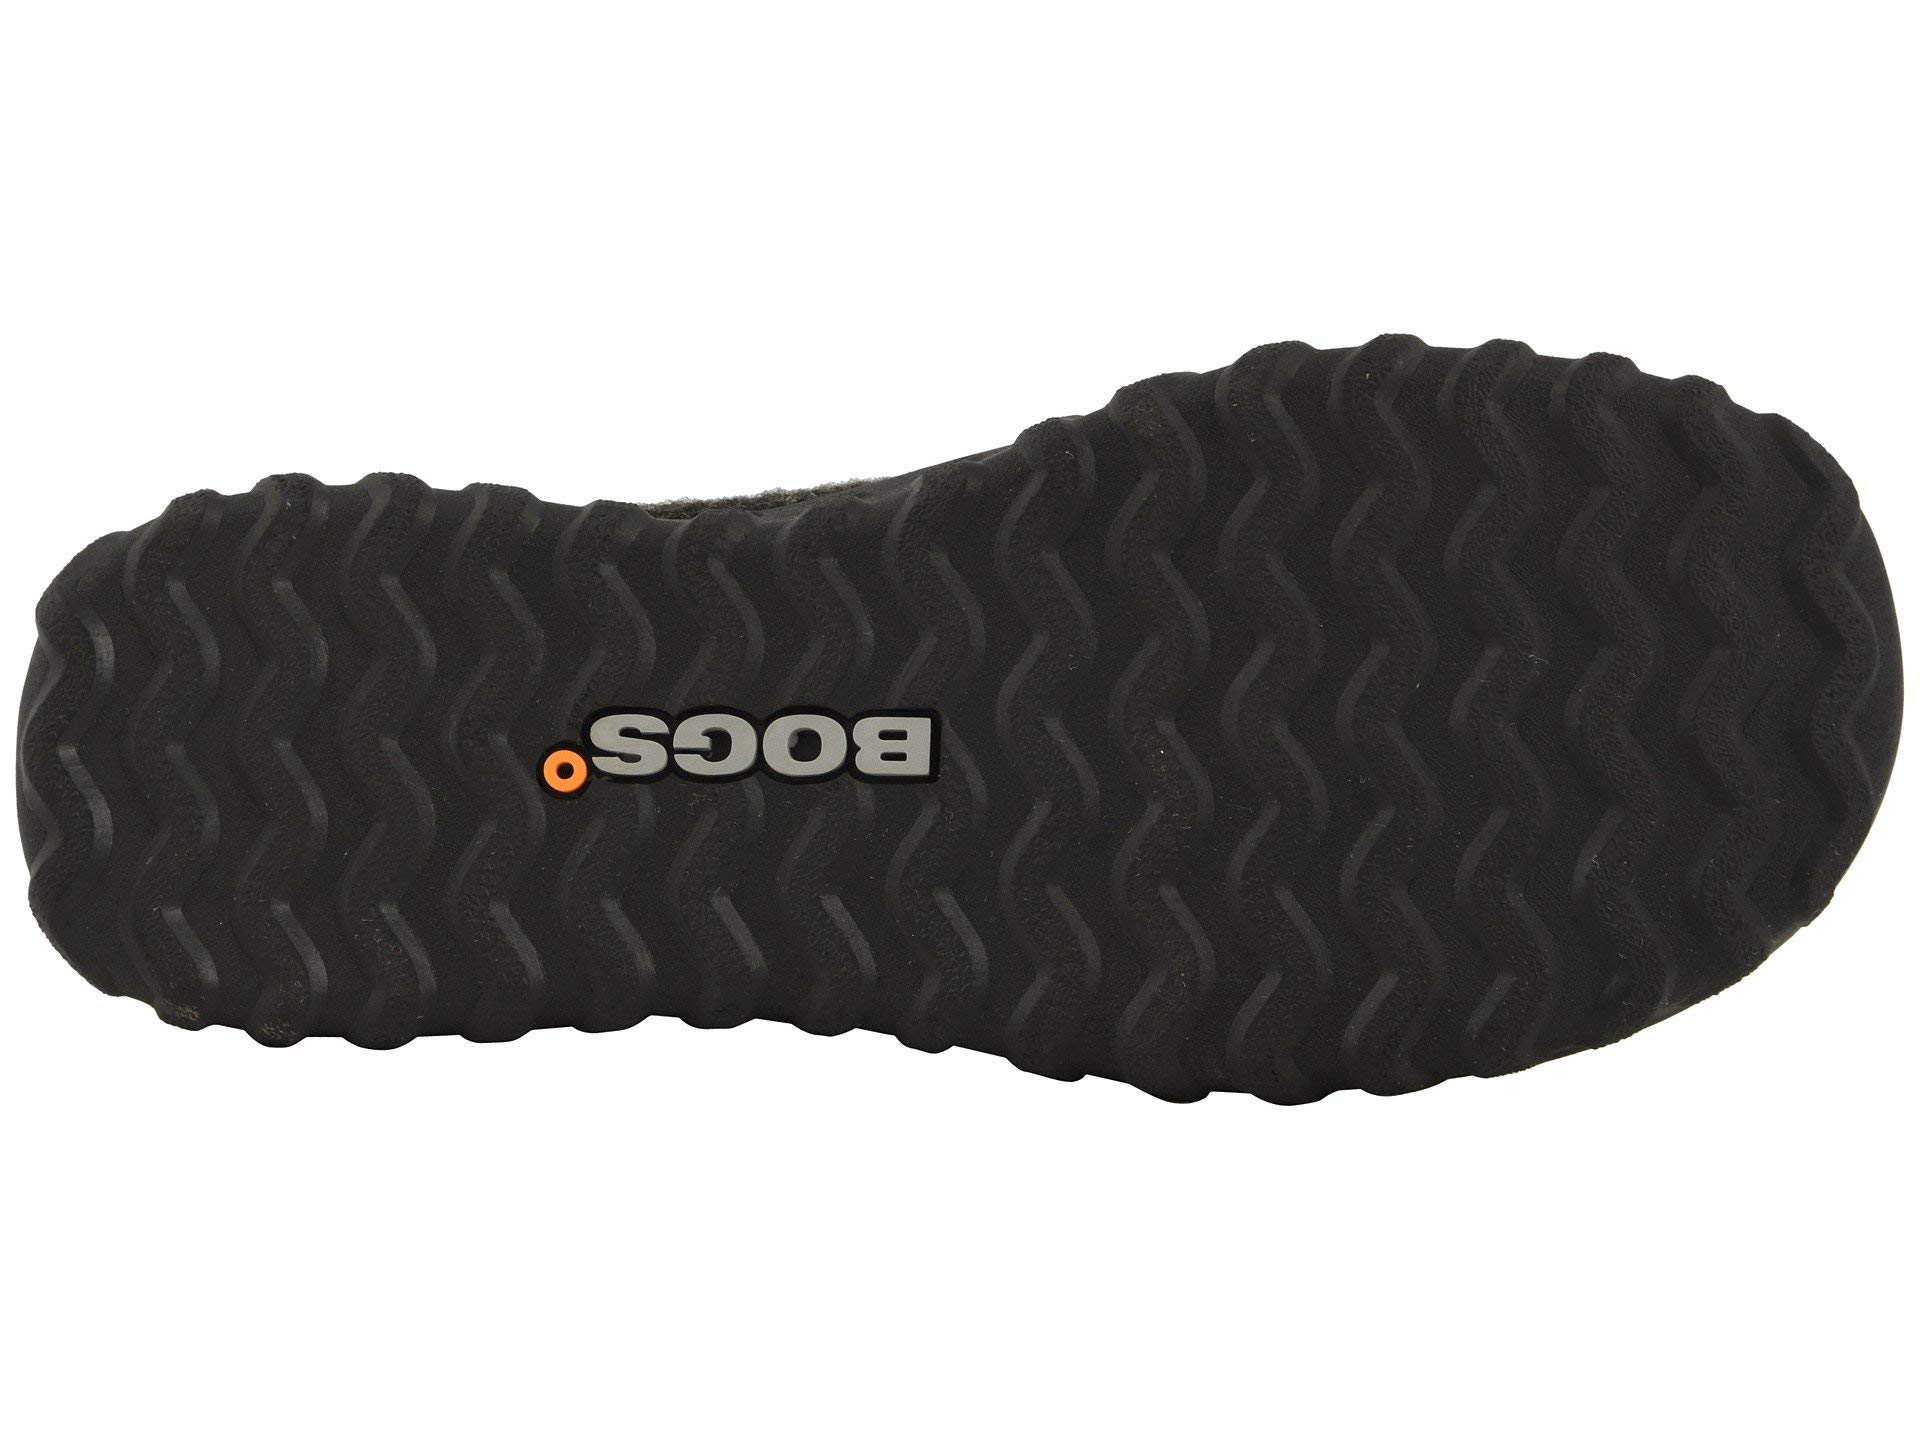chevron: (438, 582, 1008, 942), (1143, 514, 1575, 948)
circle: (438, 582, 1008, 942)
text: (438, 582, 1008, 942)
